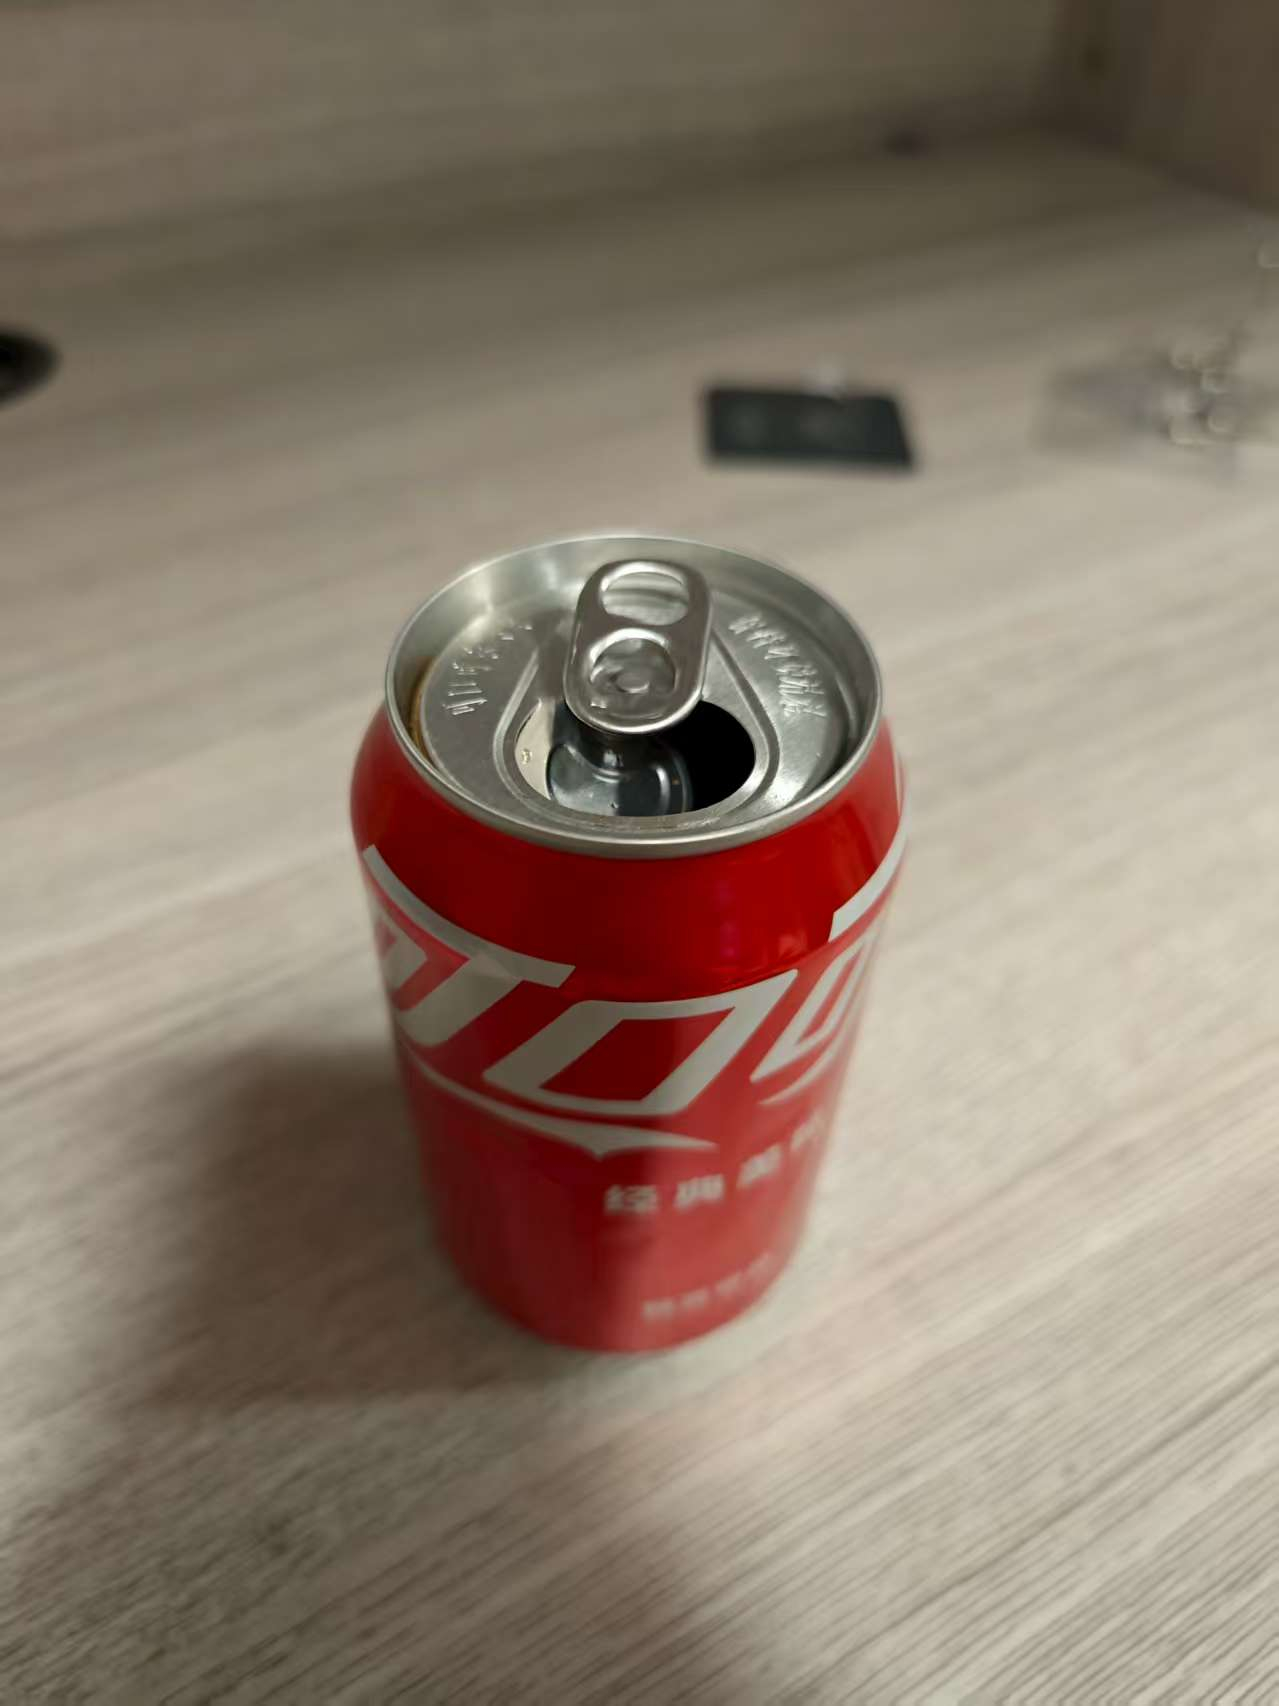可乐: (332, 521, 924, 1380)
